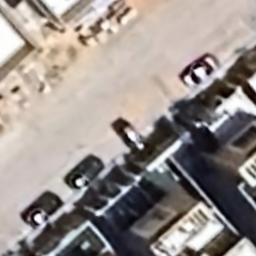pickup: (18, 188, 66, 230), (62, 154, 106, 190)
sedan: (180, 51, 220, 91)
